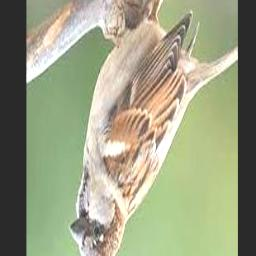Sparrow: (69, 10, 238, 256)
